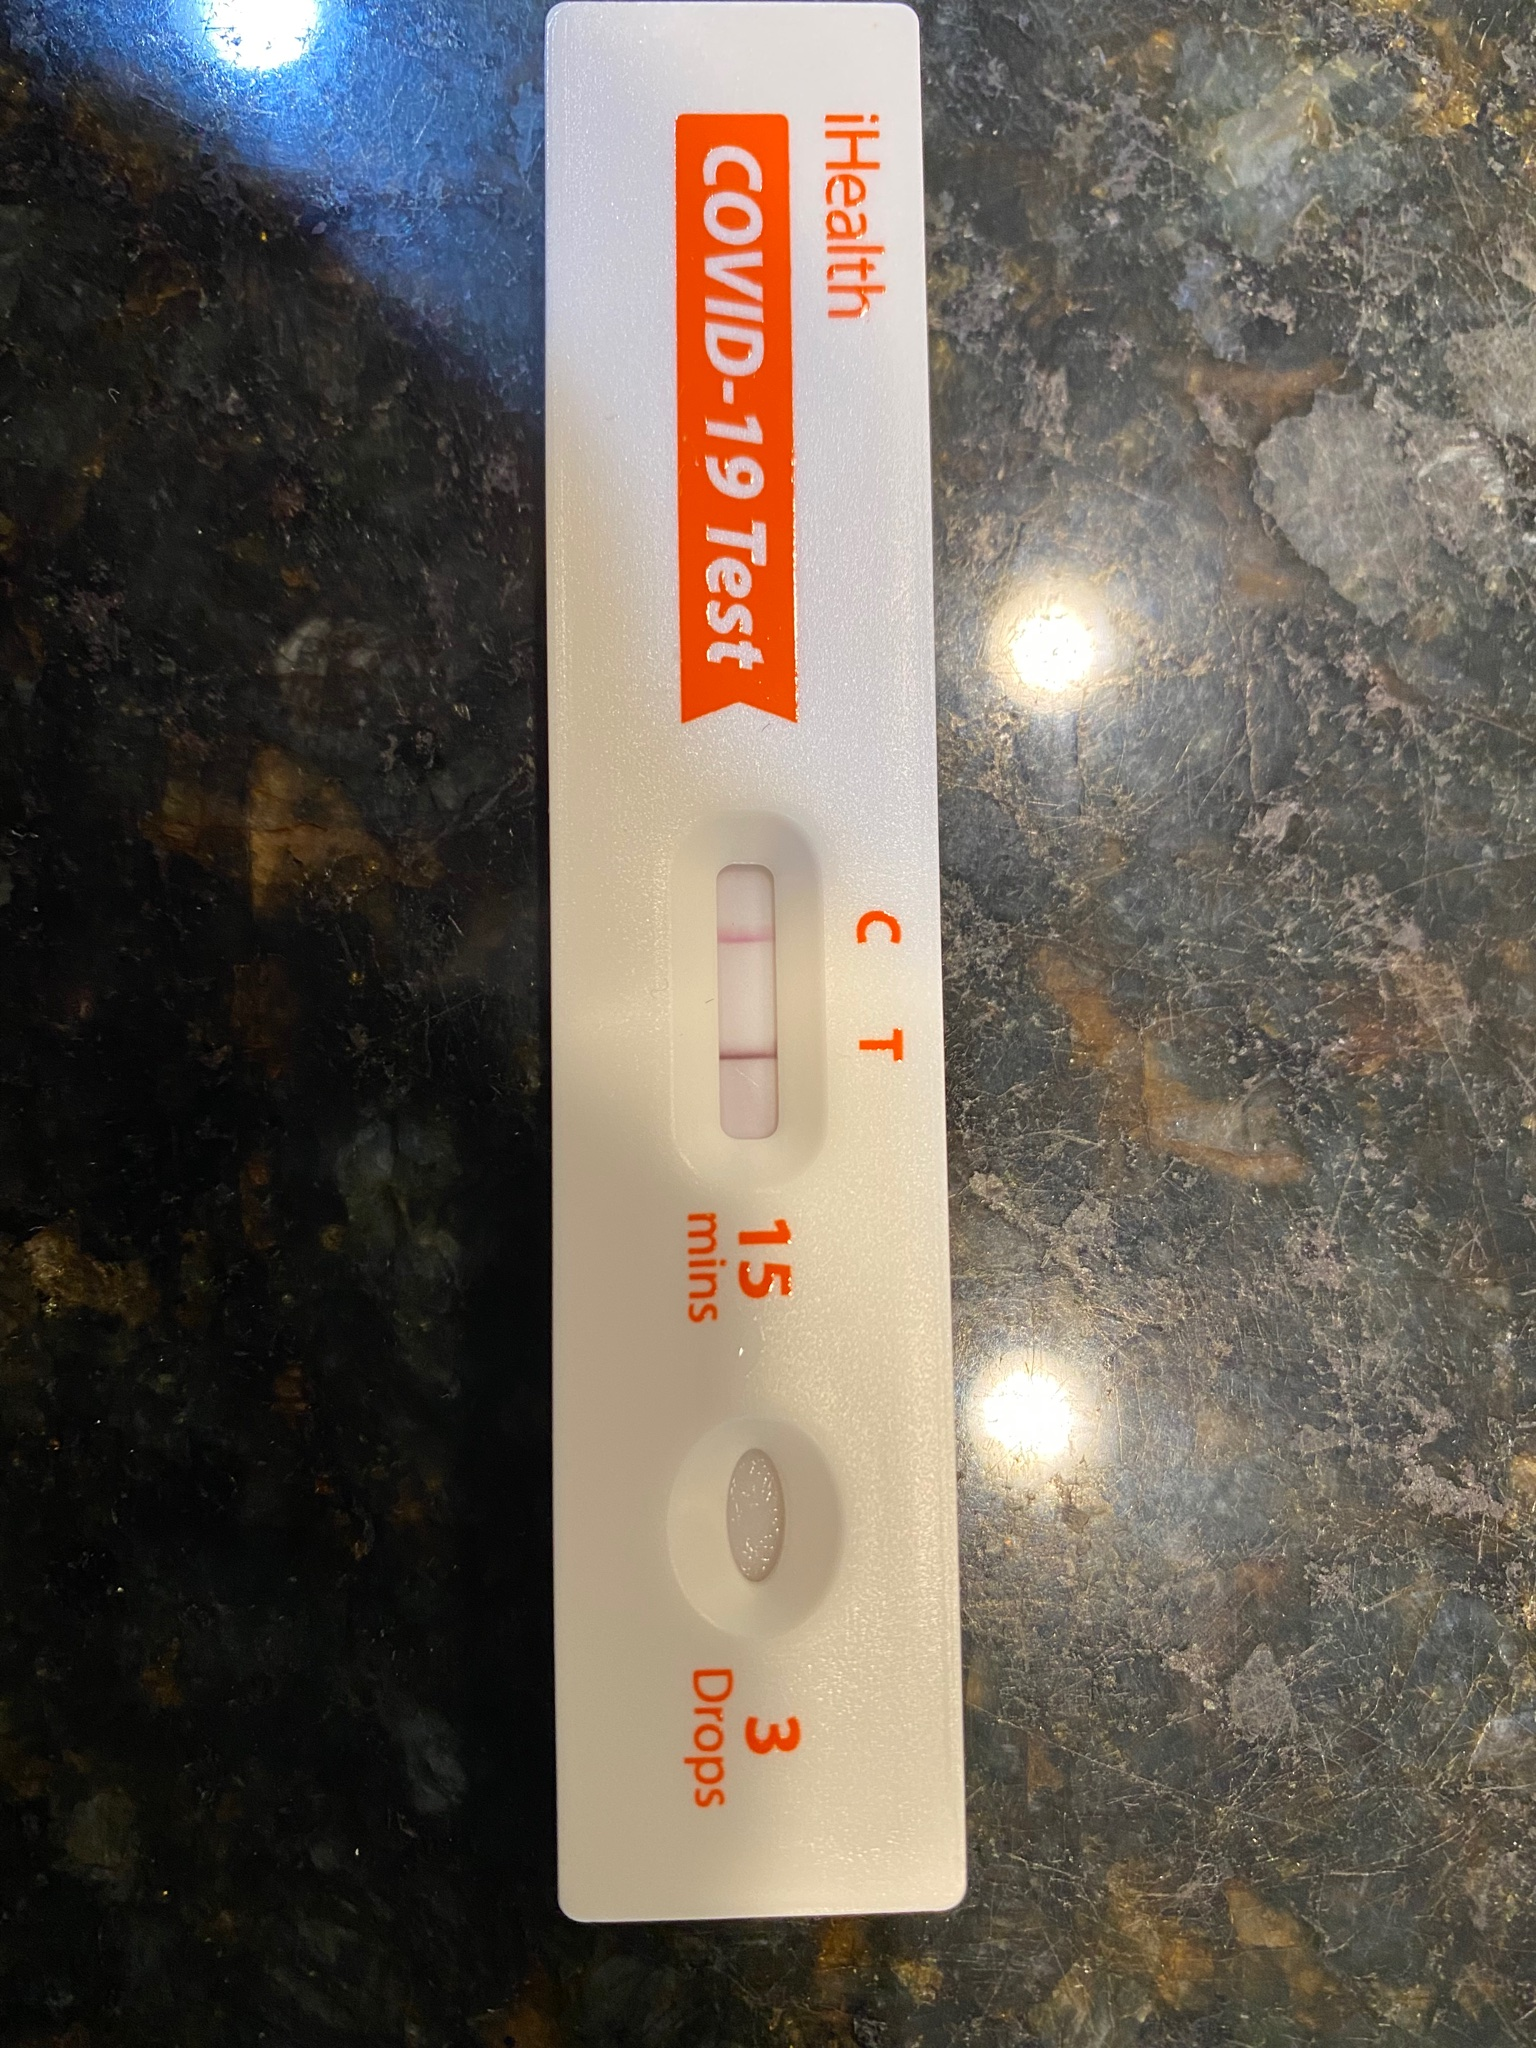positive: (687, 830, 808, 1159)
